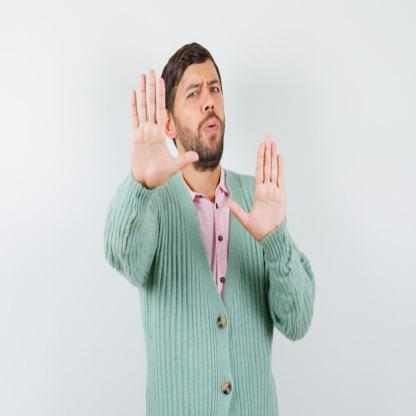stop: (126, 66, 200, 190), (224, 131, 290, 242)
